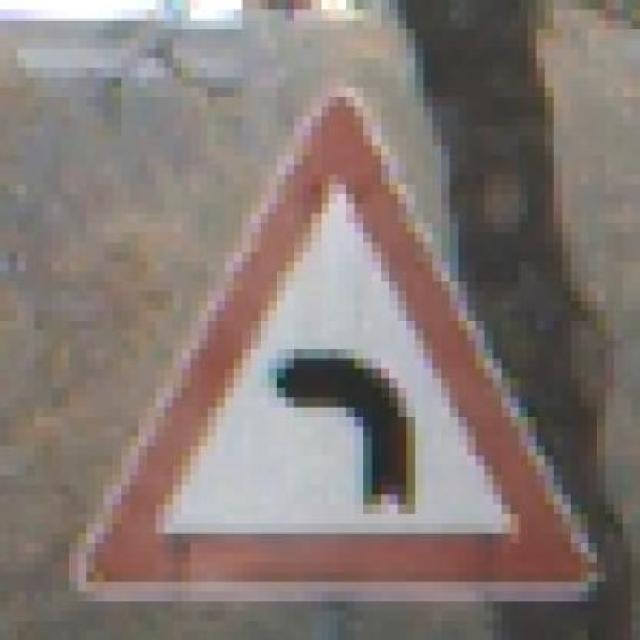Dangerous Left Curve Ahead: (61, 68, 605, 602)
